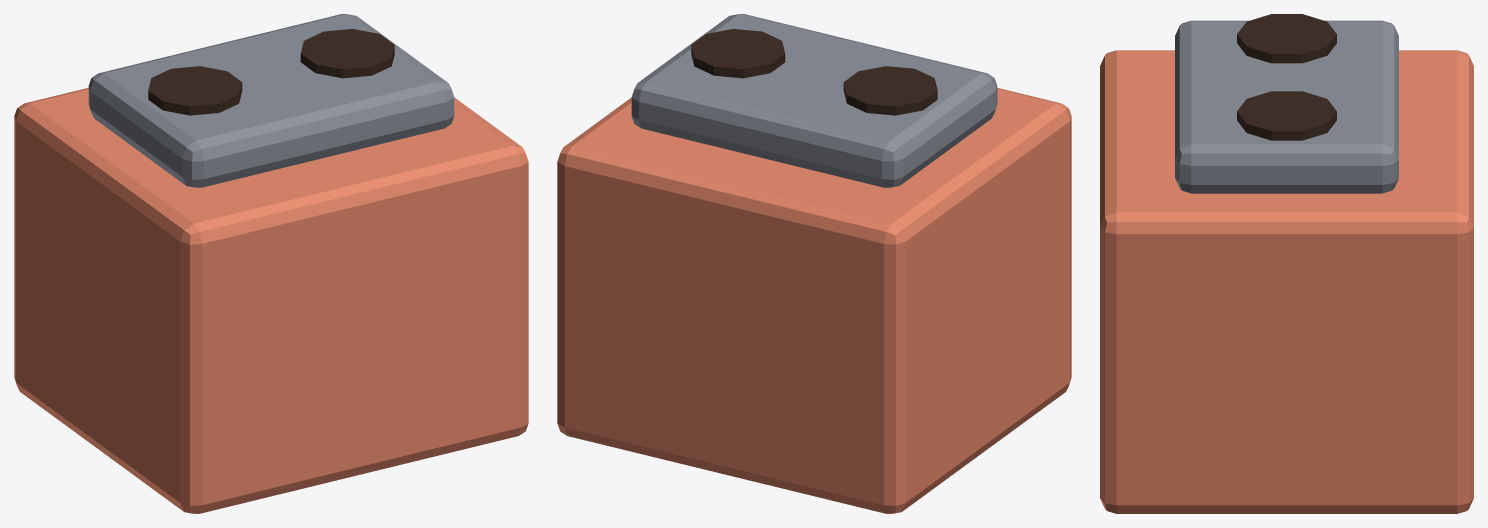
File: prop_kompor.fbx
3 renders of one model, left to right at view 1: azimuth 30°, elevation 25°; view 2: azimuth 150°, elevation 25°; view 3: azimuth 270°, elevation 25°, orthographic. The views are drawn at different scales.
Visible parts, largest first — view 1: prop_kompor; view 2: prop_kompor; view 3: prop_kompor.
Part boxes in pixels (x1,y1,x2,y2): prop_kompor: [14, 14, 528, 513]; prop_kompor: [557, 14, 1071, 513]; prop_kompor: [1100, 14, 1473, 513].
Bounding box in the file's own units: 100 × 95.65 × 90.
Materials: 1 (1 with a texture image).
